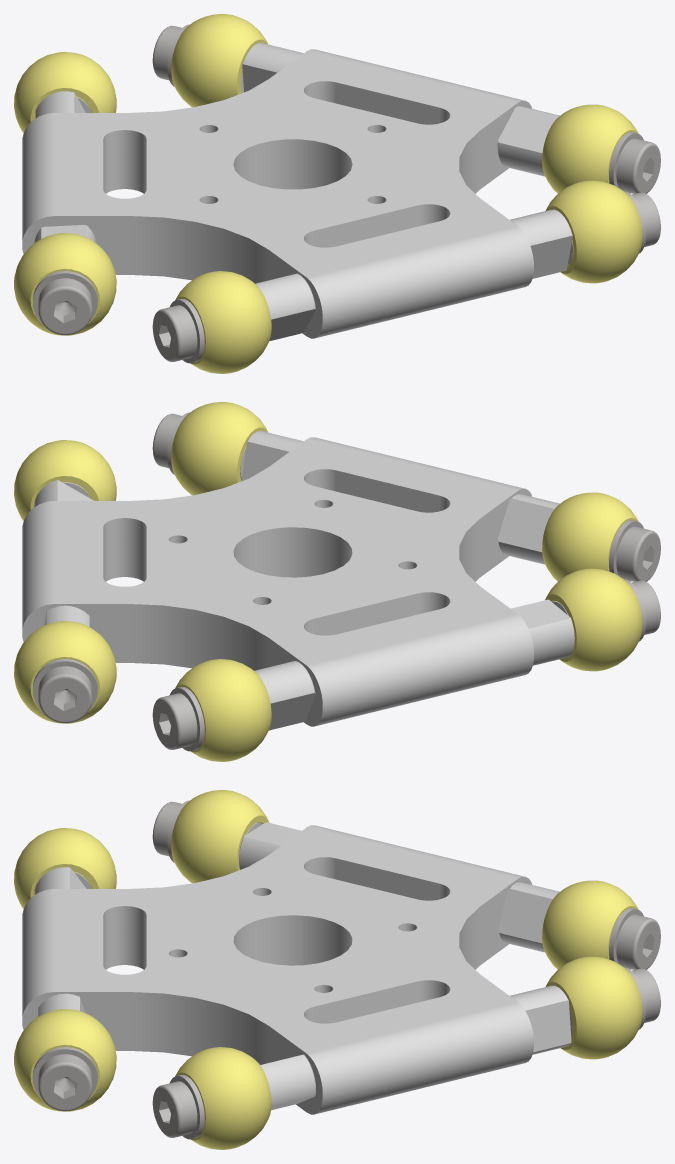
File: plate.glb
3 views of the same model, one above another, from view 1: azimuth 30°, elevation 25°; view 2: azimuth 150°, elevation 25°; view 3: azimuth 270°, elevation 25° (orthographic).
Visible parts, largest first — view 1: ETY-DR-0043, WKM-10-028, WKM-10-027, WKM-10-036, WKM-10-034, WKM-10-030, WKM-10-032, ETY-DR-0048, ETY-DR-0047, ETY-DR-0046, NOR-21228, NOR-21235 (+9 smaller); view 2: ETY-DR-0043, WKM-10-030, WKM-10-032, WKM-10-028, WKM-10-027, WKM-10-036, WKM-10-034, ETY-DR-0046, ETY-DR-0044, ETY-DR-0042, NOR-21224, NOR-21231 (+9 smaller); view 3: ETY-DR-0043, WKM-10-036, WKM-10-034, WKM-10-030, WKM-10-032, WKM-10-028, WKM-10-027, ETY-DR-0044, ETY-DR-0045, NOR-21232, ETY-DR-0048, NOR-21227 (+9 smaller).
Boxes of the visible parts, box(x1,y1,x2,y2) form: ETY-DR-0043: box(22, 49, 533, 338); WKM-10-028: box(545, 180, 642, 283); WKM-10-027: box(175, 271, 271, 373); WKM-10-036: box(171, 14, 267, 107); WKM-10-034: box(542, 104, 638, 193); WKM-10-030: box(14, 233, 116, 335); WKM-10-032: box(14, 52, 116, 132); ETY-DR-0048: box(497, 106, 559, 176); ETY-DR-0047: box(510, 209, 573, 278); ETY-DR-0046: box(255, 273, 315, 341); NOR-21228: box(38, 278, 92, 335); NOR-21235: box(152, 305, 197, 361); ETY-DR-0043: box(22, 437, 533, 726); WKM-10-030: box(545, 568, 642, 671); WKM-10-032: box(175, 659, 271, 761); WKM-10-028: box(171, 402, 268, 495); WKM-10-027: box(542, 492, 638, 581); WKM-10-036: box(14, 621, 116, 723); WKM-10-034: box(14, 440, 116, 520); ETY-DR-0046: box(497, 494, 559, 564); ETY-DR-0044: box(254, 661, 315, 730); ETY-DR-0042: box(511, 599, 574, 665); NOR-21224: box(38, 666, 92, 723); NOR-21231: box(152, 693, 197, 749); ETY-DR-0043: box(22, 825, 533, 1114); WKM-10-036: box(545, 956, 642, 1059); WKM-10-034: box(175, 1047, 271, 1149); WKM-10-030: box(171, 790, 269, 883); WKM-10-032: box(542, 880, 638, 969); WKM-10-028: box(14, 1009, 116, 1111); WKM-10-027: box(14, 828, 116, 908); ETY-DR-0044: box(498, 882, 559, 952); ETY-DR-0045: box(510, 985, 572, 1054); NOR-21232: box(38, 1054, 92, 1111); ETY-DR-0048: box(260, 1054, 315, 1110); NOR-21227: box(152, 1081, 197, 1137).
Bounding box in the file's own units: 0.1324 × 0.0189 × 0.1193.
